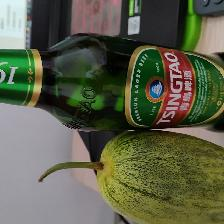gua: (99, 137, 218, 216)
